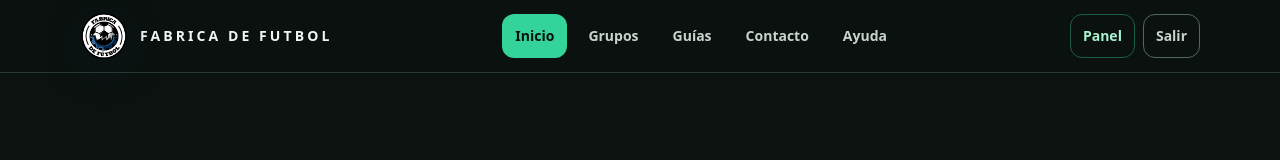
SiteHeader › conserva la cuenta visible y permite reintentar si signOut devuelve un error
Click the button "Salir" at (1171, 36), box [1143,14,1200,58]
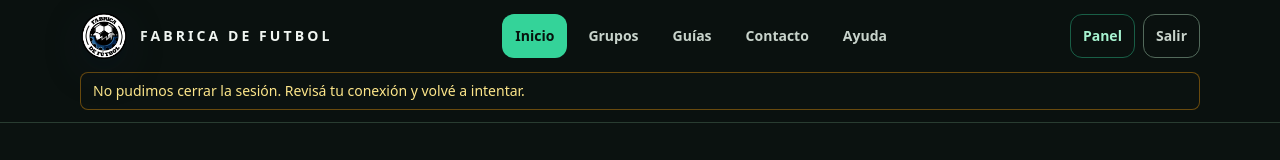
expect the link "Panel" is shown: met, box [1070,14,1135,58]
expect the message shows "No pudimos cerrar la sesión": met, box [93,81,525,100]
Click the button "Salir" at (1171, 36), box [1143,14,1200,58]
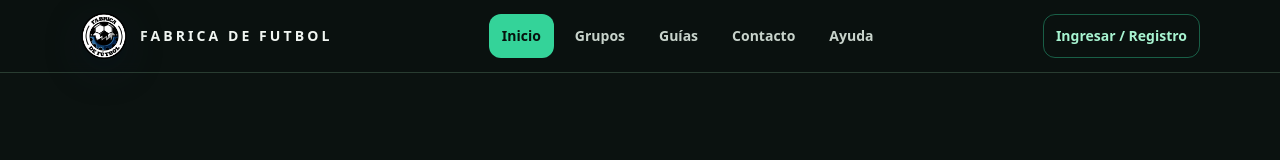
expect the message "No pudimos cerrar la sesión. Revisá tu conexión y volvé a intentar." is gone: met
expect the link "Ingresar / Registro" is shown: met, box [1043,14,1200,58]
